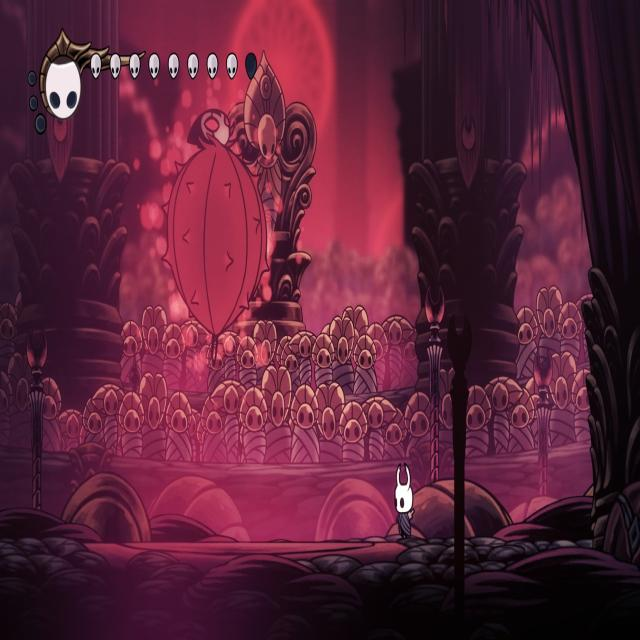Player: (392, 457, 416, 543)
Pufferfish: (158, 102, 273, 368)
